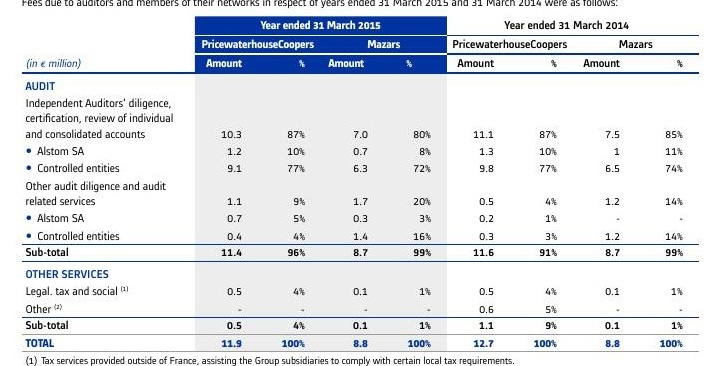table: (0, 0, 717, 366)
